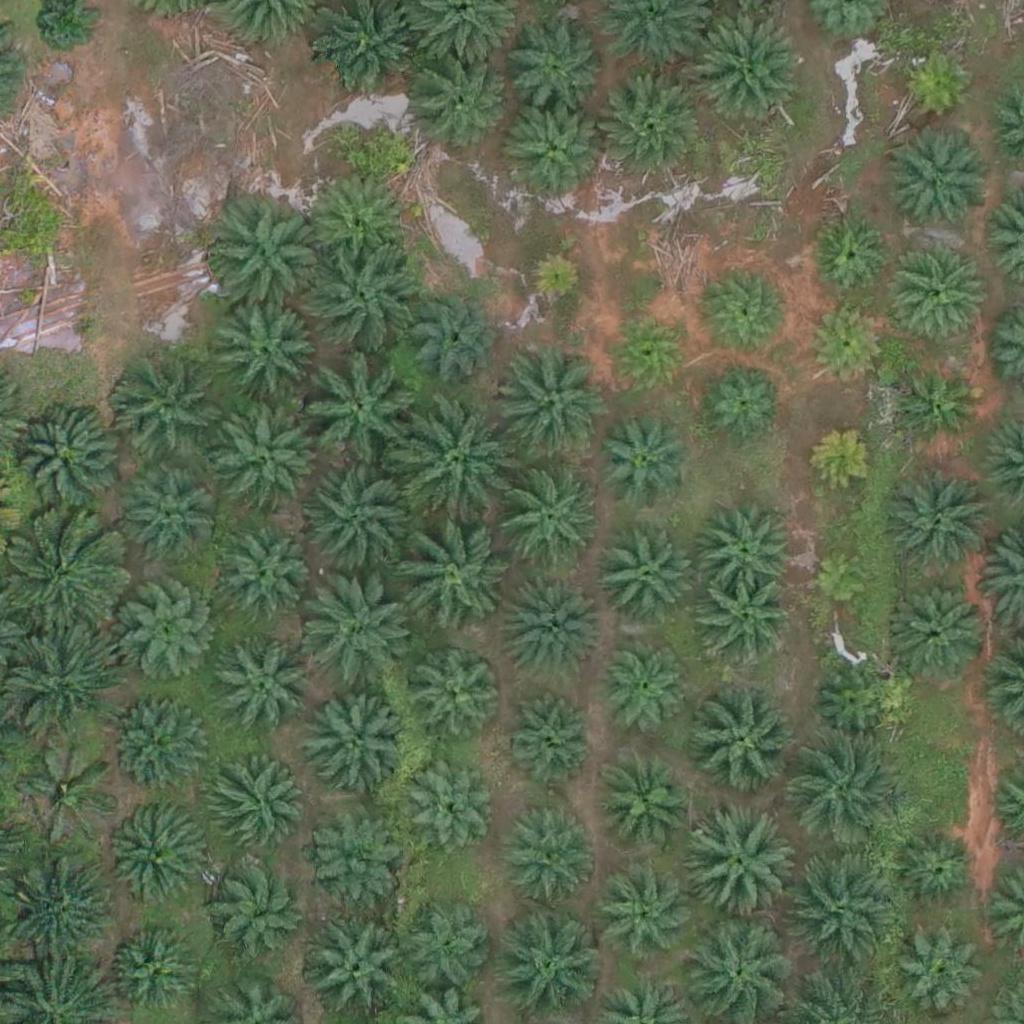Kelapa_Sawit: (882, 461, 995, 575), (789, 854, 902, 968), (686, 682, 799, 796), (679, 810, 792, 923), (301, 462, 414, 575), (3, 627, 116, 740), (7, 515, 120, 628), (398, 409, 511, 522), (304, 358, 417, 471), (209, 201, 322, 314), (6, 403, 119, 516), (300, 579, 412, 693), (690, 13, 802, 127), (592, 70, 704, 184), (792, 733, 904, 846), (394, 518, 506, 631), (495, 345, 607, 458), (310, 241, 422, 354), (212, 391, 324, 504), (106, 354, 218, 467), (895, 578, 995, 679), (695, 498, 795, 599), (589, 411, 689, 512), (596, 527, 696, 628), (596, 751, 696, 852), (598, 868, 698, 969), (502, 467, 602, 568), (499, 800, 599, 901), (498, 919, 598, 1020), (407, 640, 507, 741), (307, 695, 407, 796), (212, 637, 312, 738), (204, 757, 304, 858), (209, 857, 309, 958), (110, 692, 210, 793), (107, 808, 207, 909), (885, 134, 985, 235), (884, 242, 984, 343), (508, 15, 608, 116), (403, 54, 503, 155), (309, 171, 409, 272), (217, 305, 317, 406), (498, 582, 598, 682), (303, 807, 403, 907), (113, 587, 213, 687), (19, 743, 119, 843), (508, 101, 608, 201), (599, 649, 687, 738), (898, 934, 986, 1022), (812, 663, 900, 751), (704, 578, 792, 666), (504, 693, 592, 781), (109, 933, 197, 1021), (895, 38, 983, 126), (703, 266, 791, 354), (703, 358, 791, 446), (801, 298, 889, 386), (809, 209, 897, 297), (416, 291, 504, 379), (893, 831, 980, 919), (405, 761, 492, 849), (405, 902, 492, 990), (224, 532, 311, 620), (126, 477, 213, 565), (604, 308, 691, 396), (894, 358, 981, 446), (806, 420, 881, 496), (521, 249, 584, 312), (811, 549, 873, 612)
